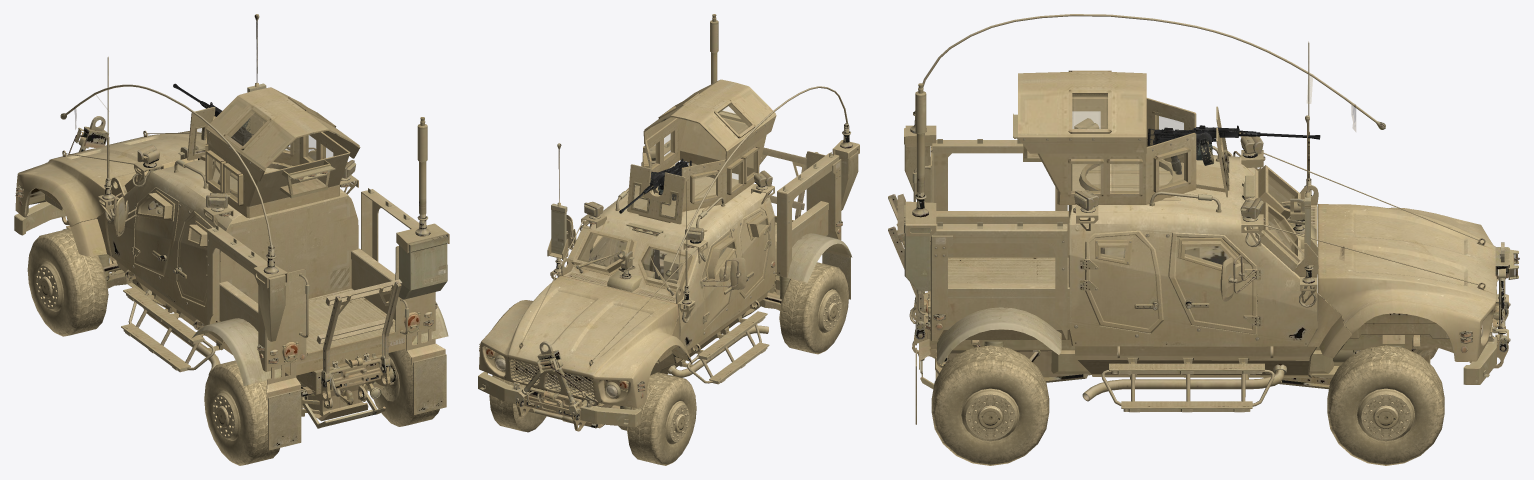
File: matv.glb
3 renders of one model, left to right at view 1: azimuth 30°, elevation 25°; view 2: azimuth 150°, elevation 25°; view 3: azimuth 270°, elevation 25°, orthographic. The views are drawn at different scales.
Parts seen in each view (by area): view 1: V_matv; view 2: V_matv; view 3: V_matv.
Part boxes in pixels (x1=…): V_matv: x1=14, y1=14, x2=449, y2=465; V_matv: x1=478, y1=14, x2=859, y2=465; V_matv: x1=888, y1=14, x2=1519, y2=465.
Bounding box in the file's own units: 7.55 × 11.27 × 17.56.
4 materials, 4 textured.
